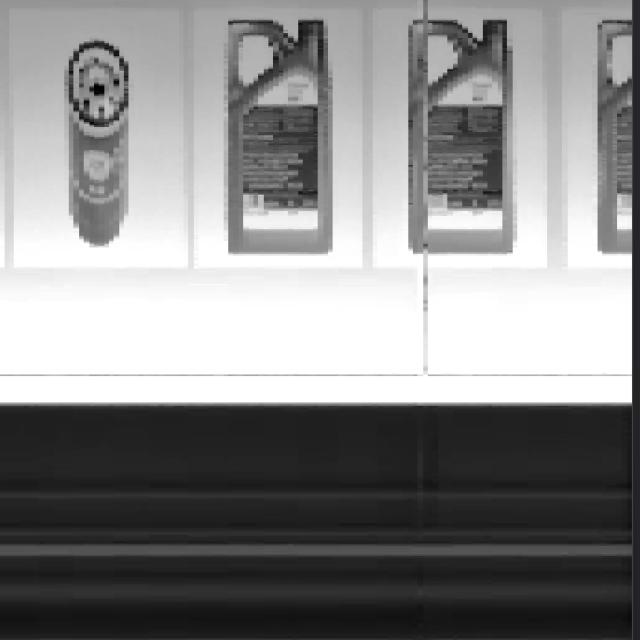motor_oil: (398, 10, 518, 257), (219, 17, 332, 262)
oil_filter: (65, 39, 134, 254)
